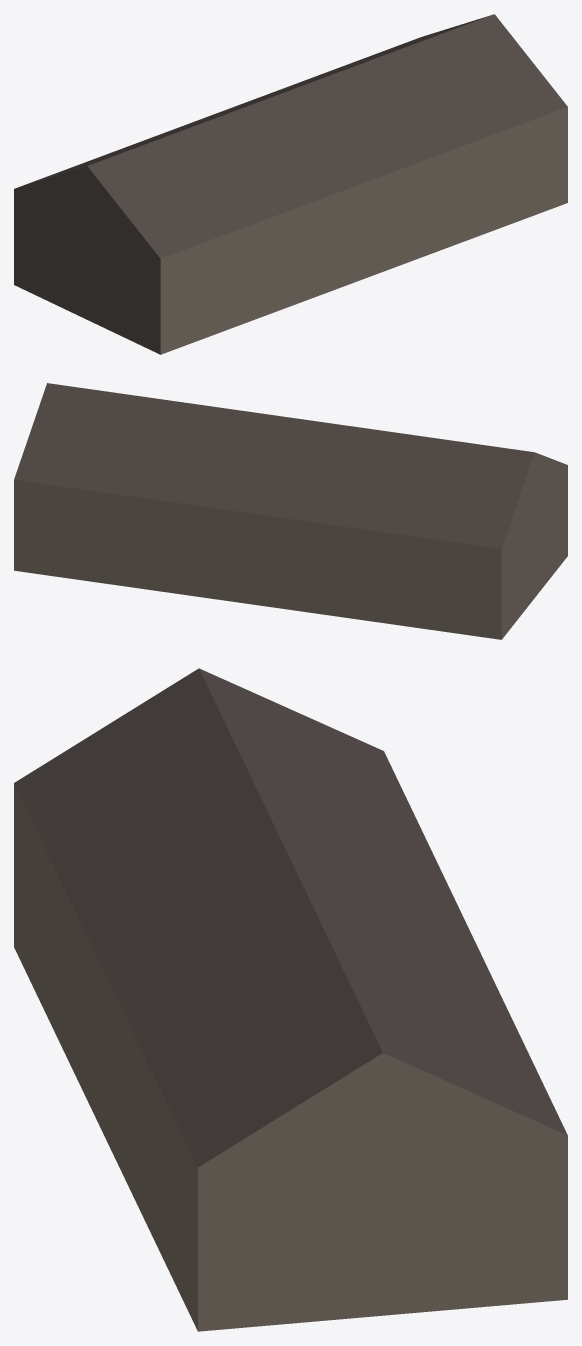
The picture shows the model from 3 angles, top to bottom: view 1: azimuth 30°, elevation 25°; view 2: azimuth 150°, elevation 25°; view 3: azimuth 270°, elevation 25°; orthographic projection. The views are drawn at different scales.
Parts seen in each view (by area): view 1: HP-w859457335; view 2: HP-w859457335; view 3: HP-w859457335.
Boxes of the visible parts, x1,y1,x2,y2 form: HP-w859457335: (14, 14, 567, 354); HP-w859457335: (14, 383, 567, 639); HP-w859457335: (14, 668, 567, 1331).
Size of the model in its own units: 32.66 by 9.61 by 18.36.
